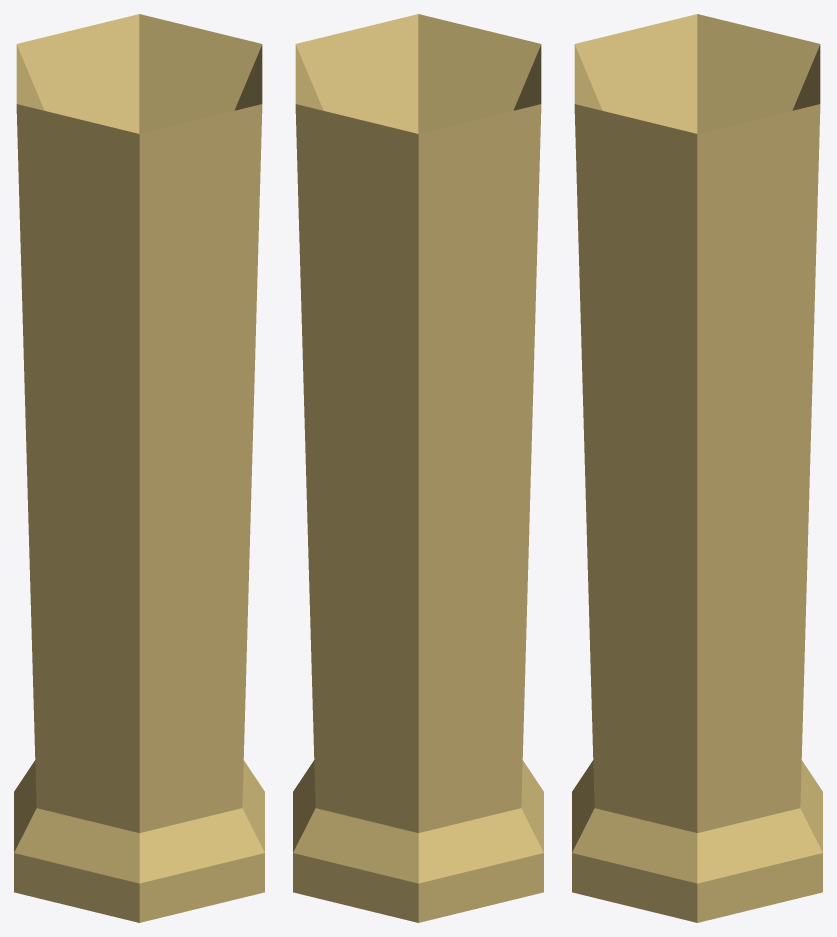
Rendered from WEP_MOD_CASING.glb.
3 views of the same model, side by side, from view 1: azimuth 30°, elevation 25°; view 2: azimuth 150°, elevation 25°; view 3: azimuth 270°, elevation 25° (orthographic).
Visible parts, largest first — view 1: SM_WEP_MOD_CASING; view 2: SM_WEP_MOD_CASING; view 3: SM_WEP_MOD_CASING.
Part boxes in pixels (box(x1,y1,x2,y2)): SM_WEP_MOD_CASING: box(14, 14, 264, 922); SM_WEP_MOD_CASING: box(293, 14, 543, 922); SM_WEP_MOD_CASING: box(572, 14, 822, 922).
Size of the model in its own units: 0.01 by 0.03 by 0.00866.
